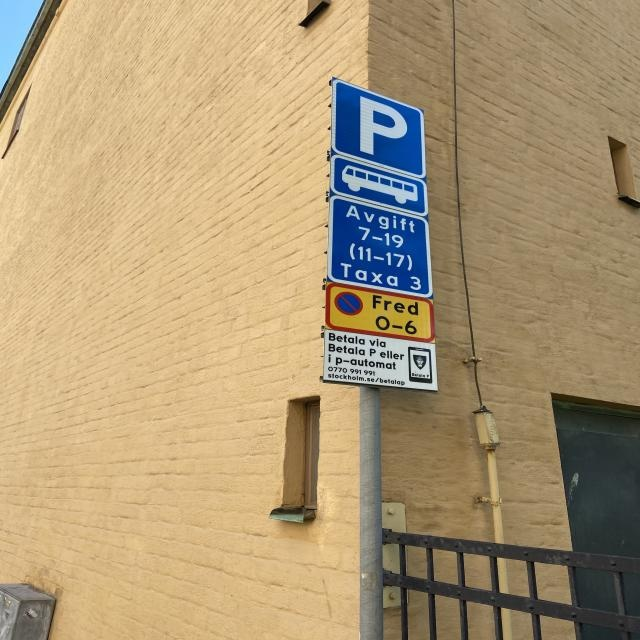P-skylt: (329, 76, 426, 180)
